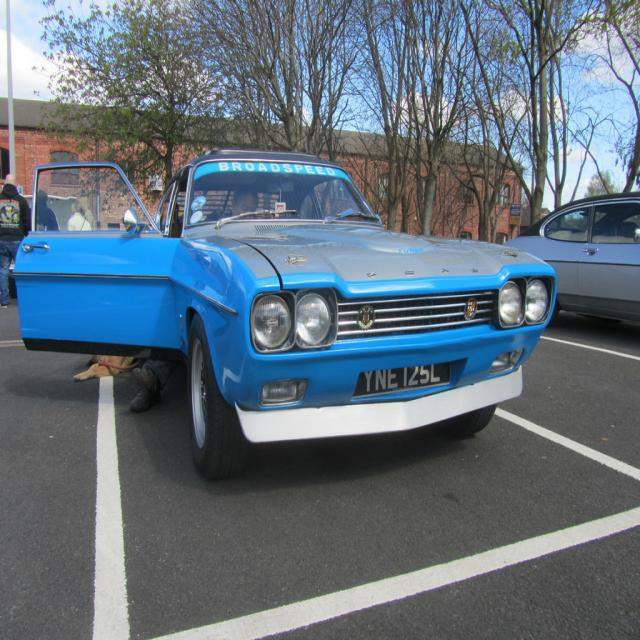other: (12, 150, 557, 480), (504, 189, 640, 326)
